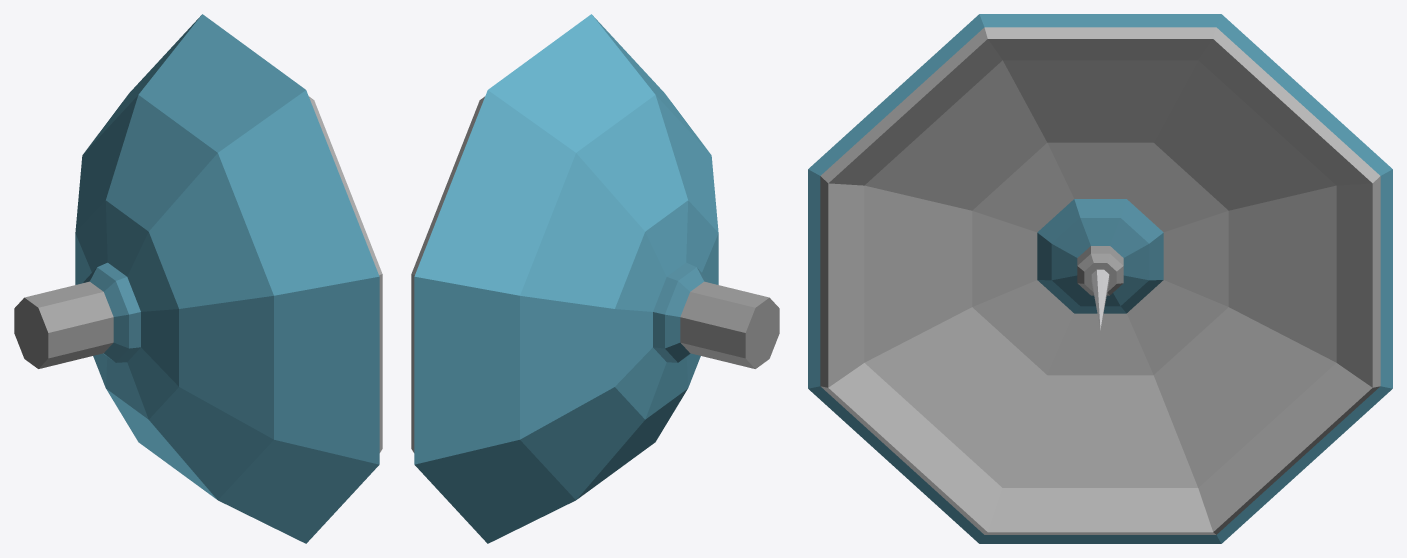
Rendered from spacestation_miscellaneous_dish.glb.
3 renders of one model, left to right at view 1: azimuth 30°, elevation 25°; view 2: azimuth 150°, elevation 25°; view 3: azimuth 270°, elevation 25°, orthographic. The views are drawn at different scales.
Size of the model in its own units: 0.8 by 1.11 by 1.11.
